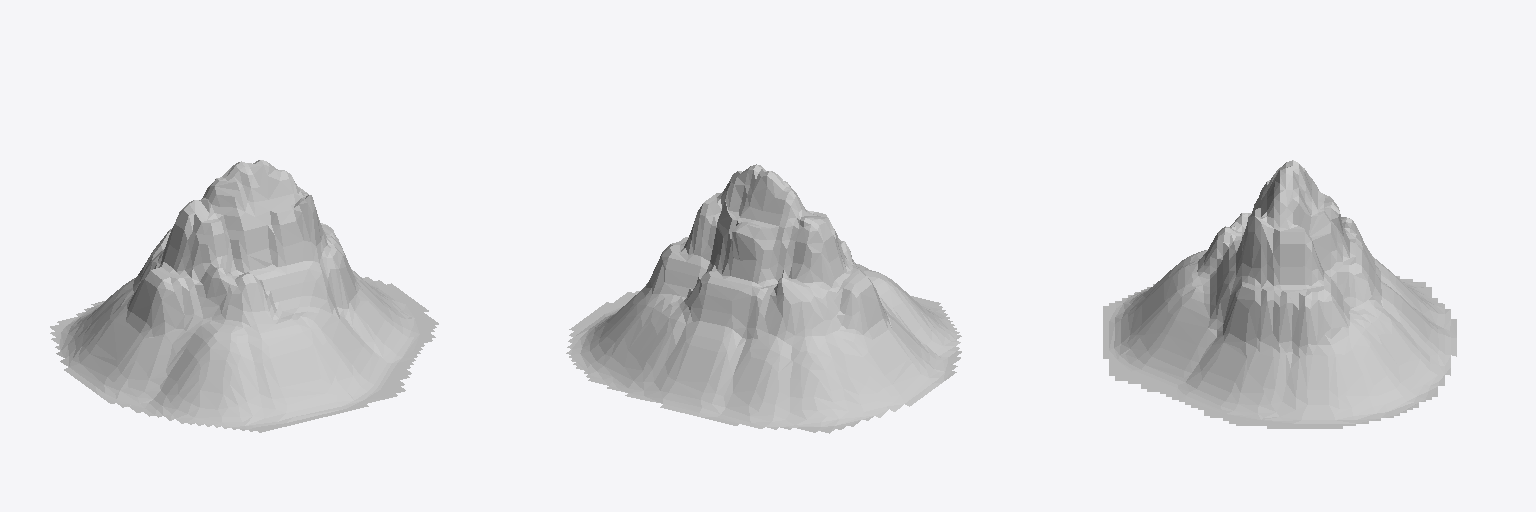
The model's file is Mountain_1_Snow_LOD_High.obj.
The picture shows the model from 3 angles: view 1: azimuth 30°, elevation 25°; view 2: azimuth 150°, elevation 25°; view 3: azimuth 270°, elevation 25°; orthographic projection.
Parts seen in each view (by area): view 1: Mountain_1_Snow_LOD_High_Plane.047; view 2: Mountain_1_Snow_LOD_High_Plane.047; view 3: Mountain_1_Snow_LOD_High_Plane.047.
Boxes of the visible parts, box(x1,y1,x2,y2) form: Mountain_1_Snow_LOD_High_Plane.047: box(50, 160, 438, 432); Mountain_1_Snow_LOD_High_Plane.047: box(566, 164, 961, 433); Mountain_1_Snow_LOD_High_Plane.047: box(1103, 160, 1456, 428).
Size of the model in its own units: 107 by 56.34 by 98.45.